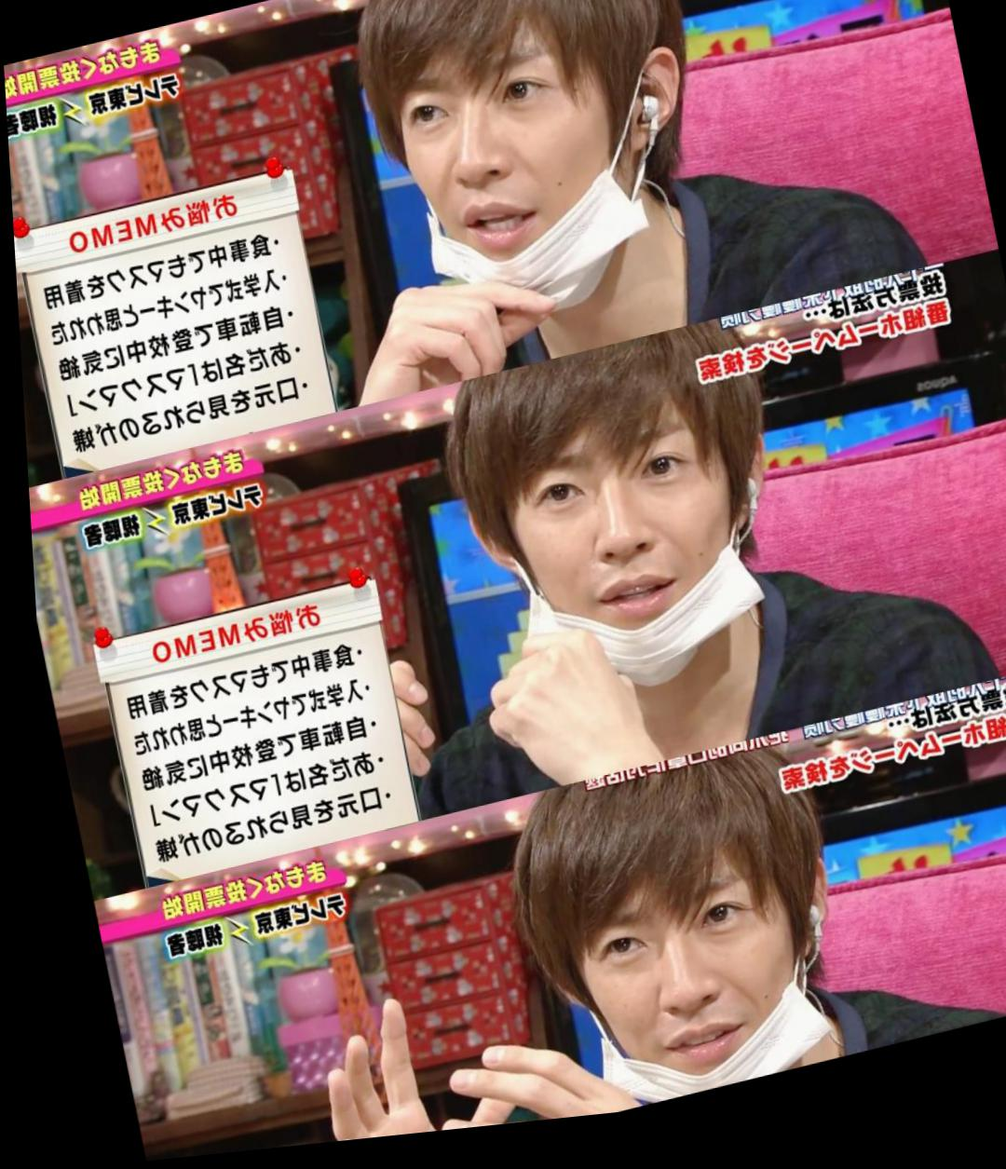WRONG: (469, 418, 768, 726), (383, 40, 661, 325), (544, 864, 799, 1128)
